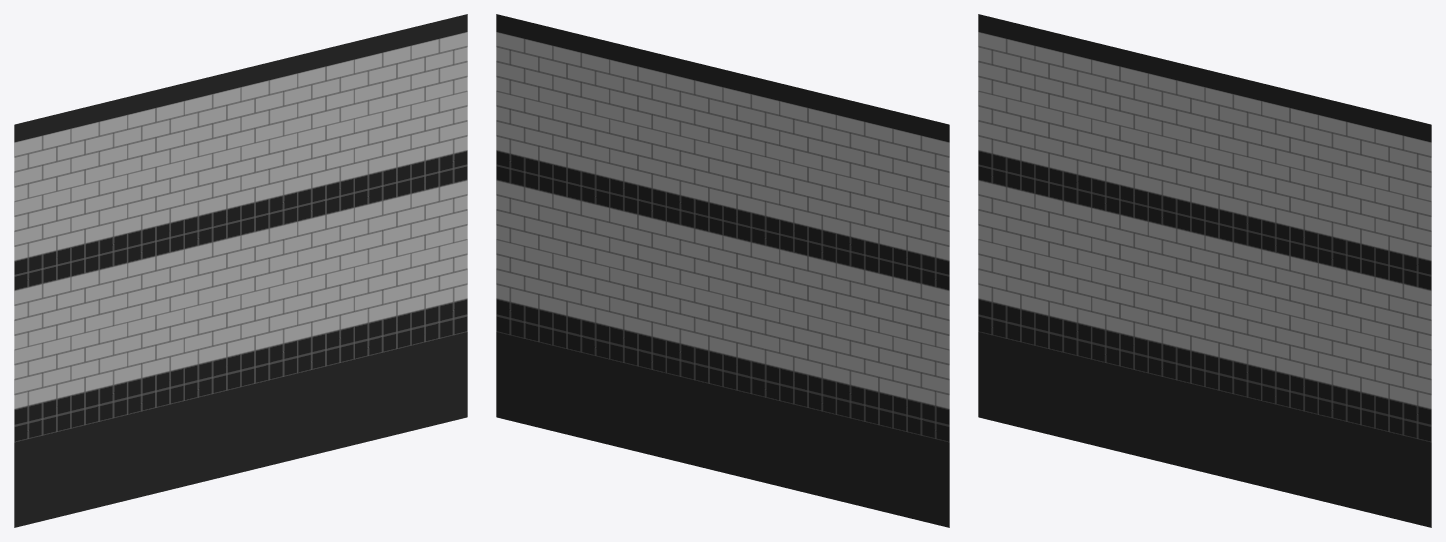
Rendered from SW_ENV_StationTunnel_Wall_A_01.fbx.
3 renders of one model, left to right at view 1: azimuth 30°, elevation 25°; view 2: azimuth 150°, elevation 25°; view 3: azimuth 330°, elevation 25°, orthographic.
Visible parts, largest first — view 1: SW_ENV_StationTunnel_Wall_A_01; view 2: SW_ENV_StationTunnel_Wall_A_01; view 3: SW_ENV_StationTunnel_Wall_A_01.
Part boxes in pixels (x1,y1,x2,y2): SW_ENV_StationTunnel_Wall_A_01: [14, 14, 467, 527]; SW_ENV_StationTunnel_Wall_A_01: [496, 14, 949, 527]; SW_ENV_StationTunnel_Wall_A_01: [978, 14, 1431, 527].
Size of the model in its own units: 500 by 425 by 0.00013.
